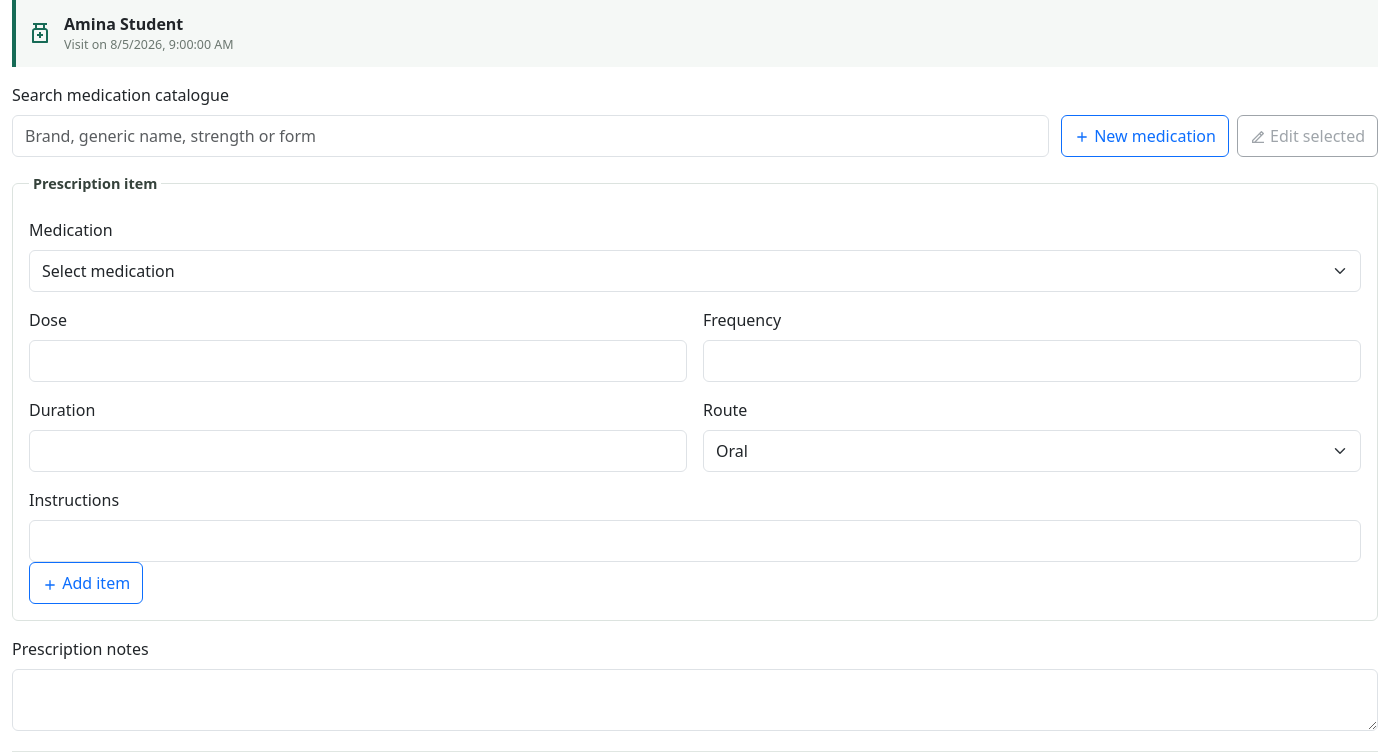
it: authorized prescriber can update a selected medication presentation
Select "Paracetamol - Acetaminophen - 500 mg - tablet" in the dropdown labelled "Medication" at (695, 271), box [29, 250, 1361, 292]
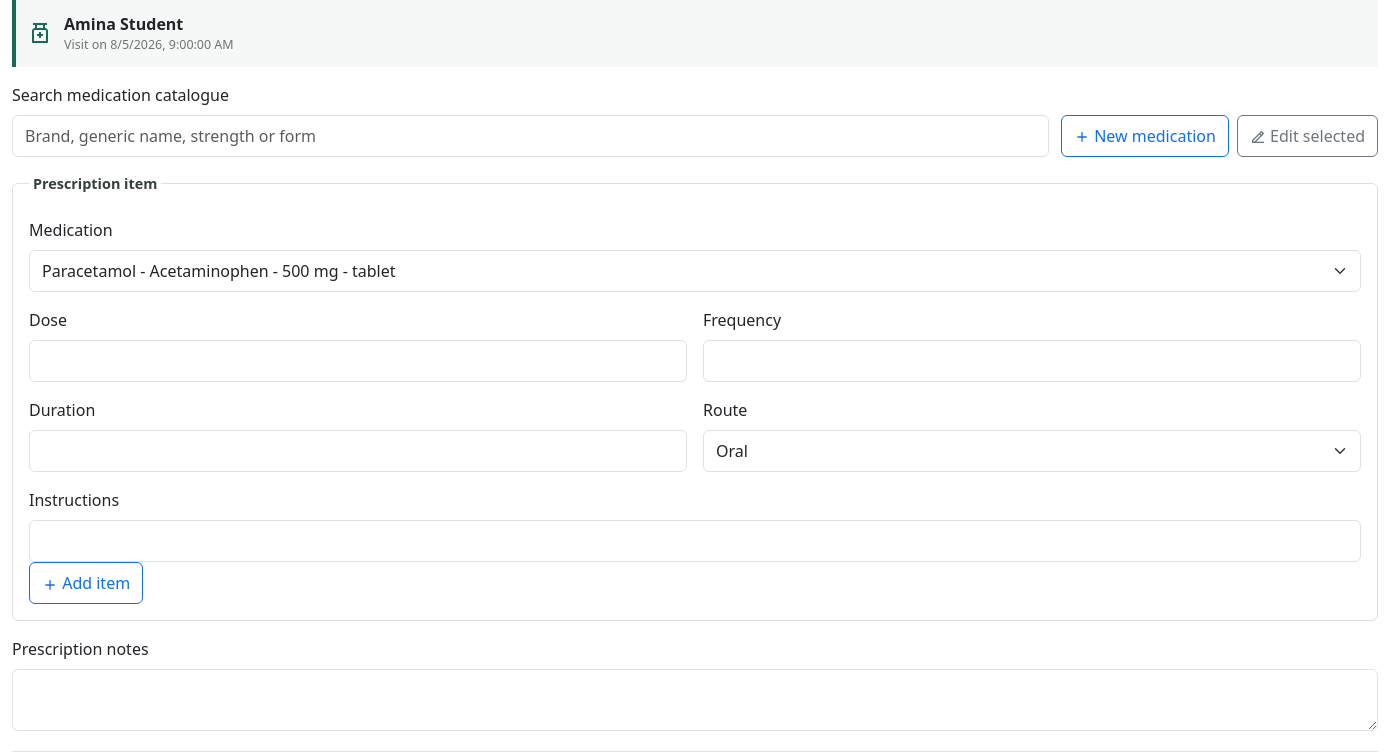
Click the button "Edit selected" at (1307, 136), box [1237, 115, 1378, 157]
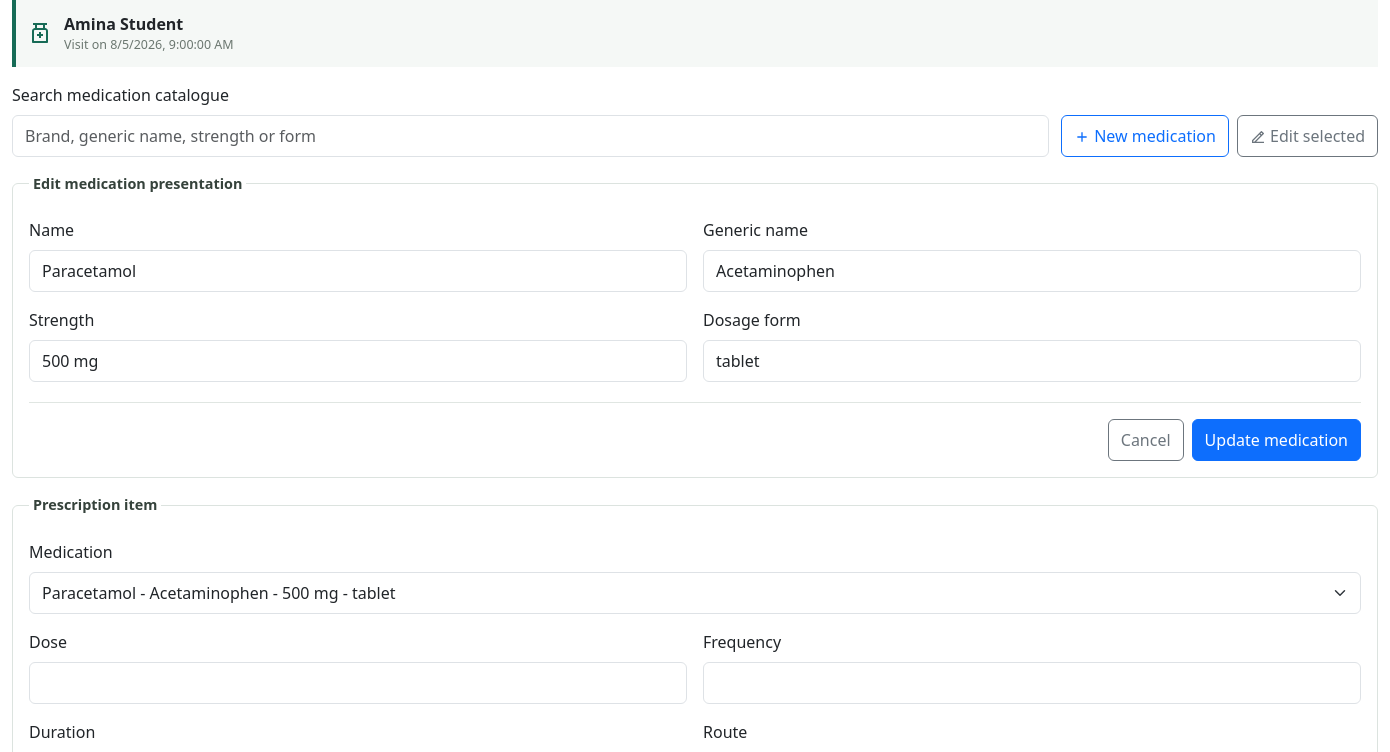
Replace the text in the field labelled "Strength" with "650 mg" at (358, 361), box [29, 340, 687, 382]
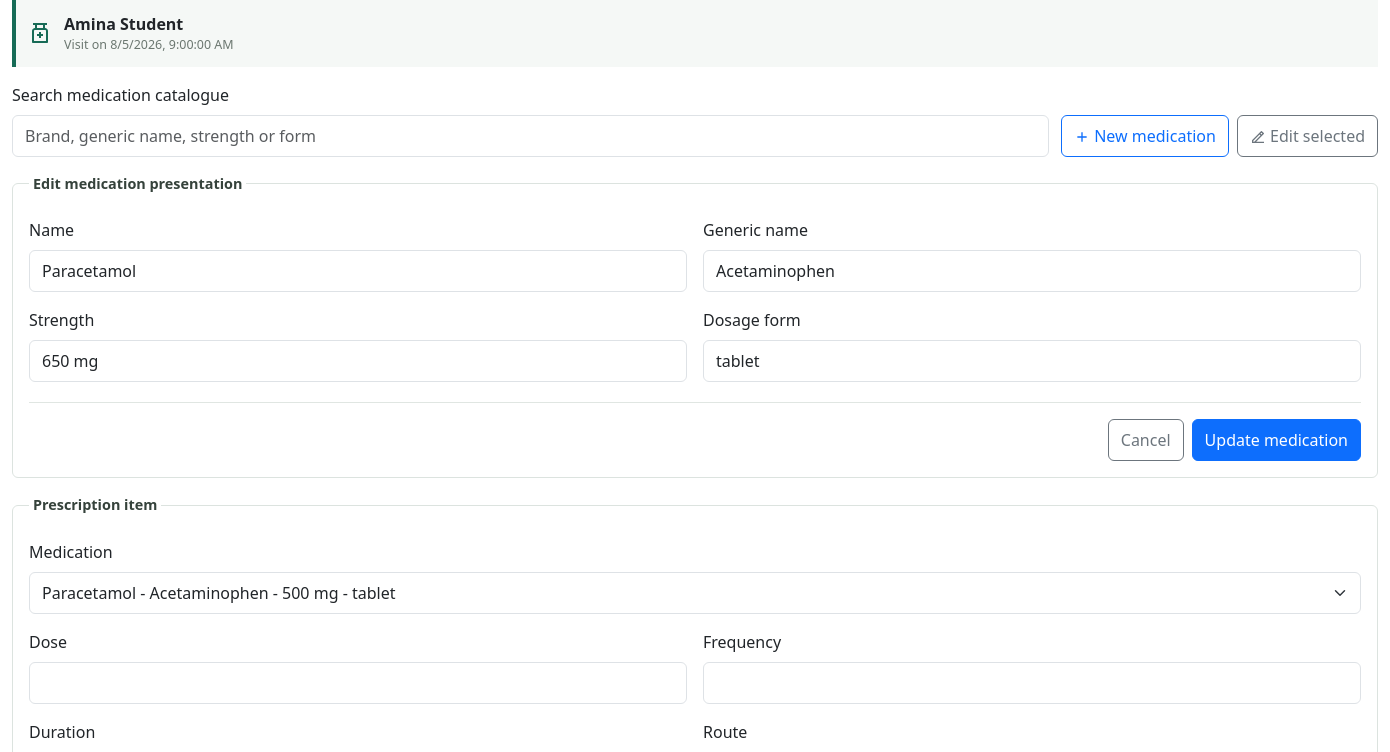
Click the button "Update medication" at (1276, 440), box [1192, 419, 1361, 461]
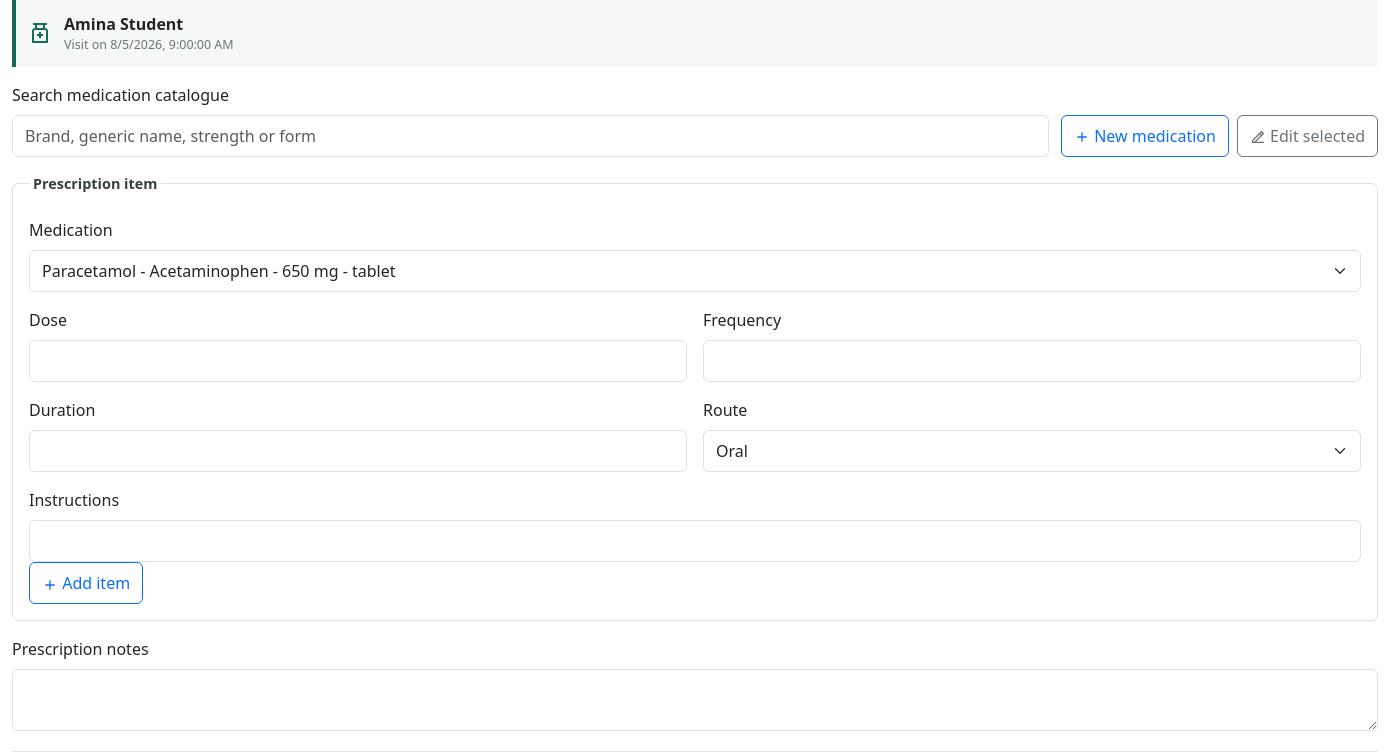
expect the text "Edit medication presentation" is gone: met
